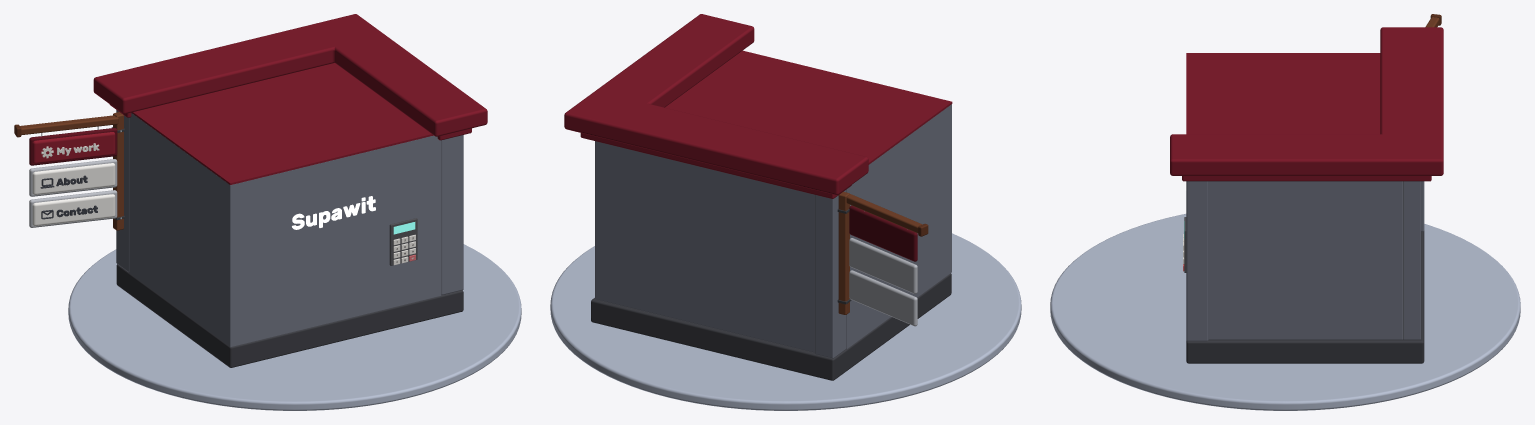
File: room.glb
The picture shows the model from 3 angles, left to right: view 1: azimuth 30°, elevation 25°; view 2: azimuth 150°, elevation 25°; view 3: azimuth 270°, elevation 25°; orthographic projection. The views are drawn at different scales.
Parts seen in each view (by area): view 1: Gate_Wall_Front, Base_Disc, Gate_Lid, Roof_Trim_Upper, Gate_Wall_Left, Room_Floor, Wall_Pilaster_Right, Sign_About_Board, Sign_Contact_Board, Sign_MyWork_Board, Wall_Pilaster_Back, Signpost_Crossbar (+6 smaller); view 2: Wall_Back, Base_Disc, Roof_Trim_Upper, Gate_Lid, Gate_Wall_Left, Room_Floor, Wall_Pilaster_Back, Sign_Contact_Rim, Sign_About_Rim, Sign_MyWork_Rim, Gate_Wall_Front, Roof_Trim_Lower (+2 smaller); view 3: Base_Disc, Wall_Right, Roof_Trim_Upper, Gate_Lid, Room_Floor, Wall_Pilaster_Right, Wall_Back, Roof_Trim_Lower.
Boxes of the visible parts, x1,y1,x2,y2 form: Gate_Wall_Front: [220, 135, 441, 346]; Base_Disc: [68, 244, 521, 410]; Gate_Lid: [131, 63, 433, 184]; Roof_Trim_Upper: [93, 14, 487, 136]; Gate_Wall_Left: [129, 113, 219, 339]; Room_Floor: [116, 264, 463, 367]; Wall_Pilaster_Right: [441, 135, 463, 294]; Sign_About_Board: [32, 163, 115, 194]; Sign_Contact_Board: [32, 194, 115, 226]; Sign_MyWork_Board: [32, 132, 115, 163]; Wall_Pilaster_Back: [116, 110, 129, 271]; Signpost_Crossbar: [20, 115, 118, 135]; Wall_Back: [595, 141, 814, 352]; Base_Disc: [550, 233, 1021, 410]; Roof_Trim_Upper: [564, 14, 868, 194]; Gate_Lid: [665, 50, 952, 164]; Gate_Wall_Left: [846, 112, 940, 348]; Room_Floor: [591, 273, 951, 380]; Wall_Pilaster_Back: [814, 189, 846, 358]; Sign_Contact_Rim: [849, 270, 917, 326]; Sign_About_Rim: [849, 238, 917, 293]; Sign_MyWork_Rim: [849, 205, 917, 261]; Gate_Wall_Front: [941, 104, 951, 279]; Roof_Trim_Lower: [580, 133, 851, 198]; Base_Disc: [1050, 214, 1520, 410]; Wall_Right: [1208, 181, 1402, 339]; Roof_Trim_Upper: [1170, 27, 1443, 175]; Gate_Lid: [1186, 53, 1380, 134]; Room_Floor: [1186, 231, 1424, 363]; Wall_Pilaster_Right: [1186, 181, 1208, 341]; Wall_Back: [1403, 181, 1420, 339]; Roof_Trim_Lower: [1182, 176, 1431, 181].
Size of the model in its own units: 6.79 by 3.44 by 6.6.
